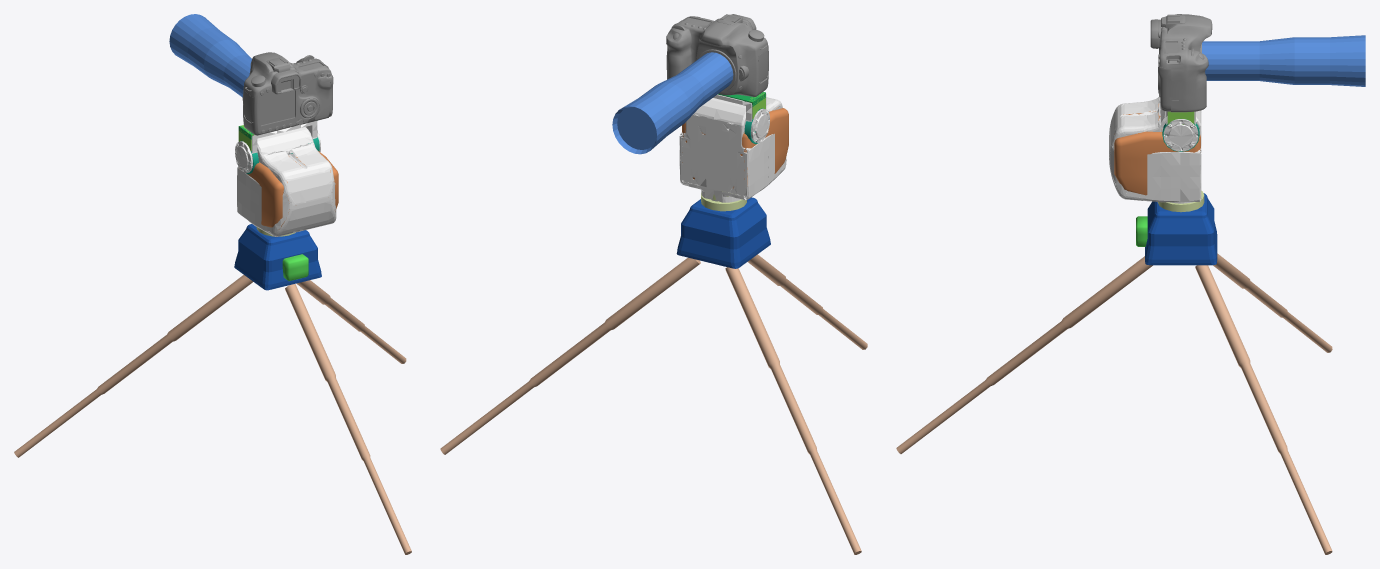
Rendered from ptu-tilt.obj.
The picture shows the model from 3 angles, left to right: view 1: azimuth 30°, elevation 25°; view 2: azimuth 150°, elevation 25°; view 3: azimuth 270°, elevation 25°; orthographic projection. The views are drawn at different scales.
Visible parts, largest first — view 1: Mesh, objBox01, AbgekZyl001, AbgekQuader001, TripodLeg001, TripodLeg003, AbgekQuader002, TripodLeg002, Mesh_001, AbgekQuader003; view 2: Mesh, AbgekZyl001, objBox01, AbgekQuader001, TripodLeg003, TripodLeg002, TripodLeg001, AbgekQuader002, Mesh_001; view 3: AbgekZyl001, Mesh, objBox01, AbgekQuader001, TripodLeg002, TripodLeg001, AbgekQuader002, TripodLeg003, Mesh_001, Object05.
Boxes of the visible parts, x1=… form: Mesh: x1=237, y1=127, x2=336, y2=236; objBox01: x1=242, y1=52, x2=332, y2=135; AbgekZyl001: x1=169, y1=14, x2=251, y2=97; AbgekQuader001: x1=234, y1=224, x2=321, y2=290; TripodLeg001: x1=285, y1=284, x2=411, y2=554; TripodLeg003: x1=14, y1=275, x2=253, y2=457; AbgekQuader002: x1=239, y1=151, x2=338, y2=229; TripodLeg002: x1=296, y1=280, x2=406, y2=363; Mesh_001: x1=235, y1=121, x2=320, y2=173; AbgekQuader003: x1=282, y1=254, x2=308, y2=281; Mesh: x1=679, y1=97, x2=786, y2=202; AbgekZyl001: x1=612, y1=52, x2=733, y2=154; objBox01: x1=666, y1=14, x2=768, y2=96; AbgekQuader001: x1=676, y1=197, x2=770, y2=268; TripodLeg003: x1=725, y1=267, x2=861, y2=554; TripodLeg002: x1=440, y1=257, x2=700, y2=454; TripodLeg001: x1=747, y1=254, x2=867, y2=349; AbgekQuader002: x1=682, y1=107, x2=788, y2=188; Mesh_001: x1=713, y1=94, x2=769, y2=143; AbgekZyl001: x1=1202, y1=35, x2=1365, y2=86; Mesh: x1=1109, y1=96, x2=1201, y2=203; objBox01: x1=1150, y1=14, x2=1212, y2=112; AbgekQuader001: x1=1145, y1=193, x2=1217, y2=265; TripodLeg002: x1=1195, y1=265, x2=1332, y2=554; TripodLeg001: x1=896, y1=256, x2=1152, y2=453; AbgekQuader002: x1=1114, y1=104, x2=1200, y2=195; TripodLeg003: x1=1213, y1=253, x2=1332, y2=352; Mesh_001: x1=1163, y1=111, x2=1198, y2=151; Object05: x1=1158, y1=66, x2=1179, y2=109.
Size of the model in its own units: 733 by 719 by 704.
